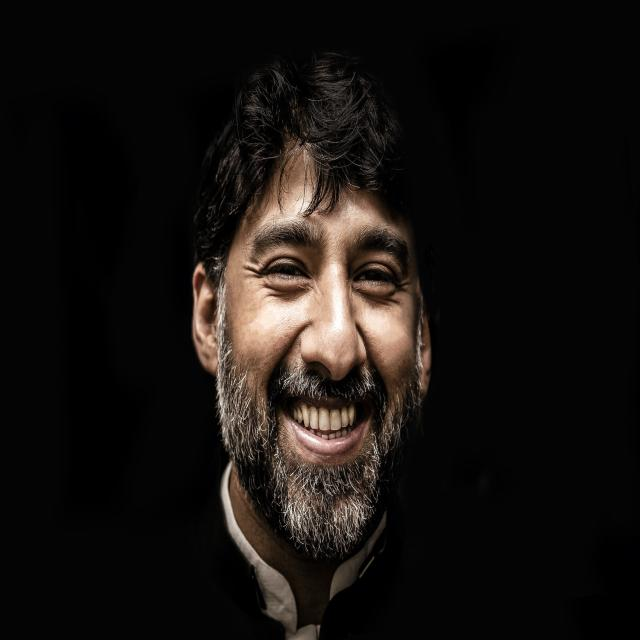adult: (189, 37, 433, 640)
